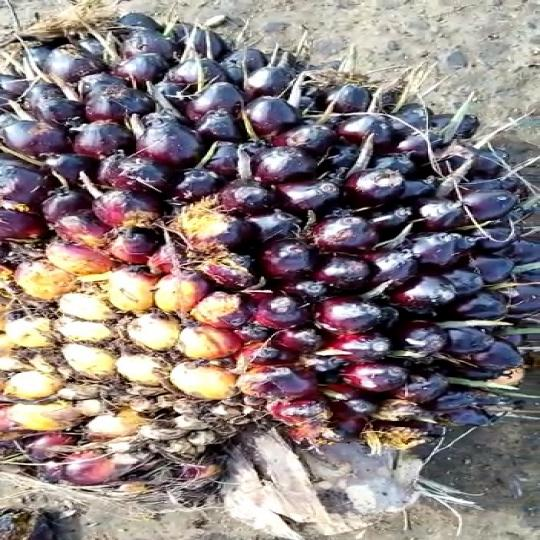mentah: (0, 3, 539, 514)
